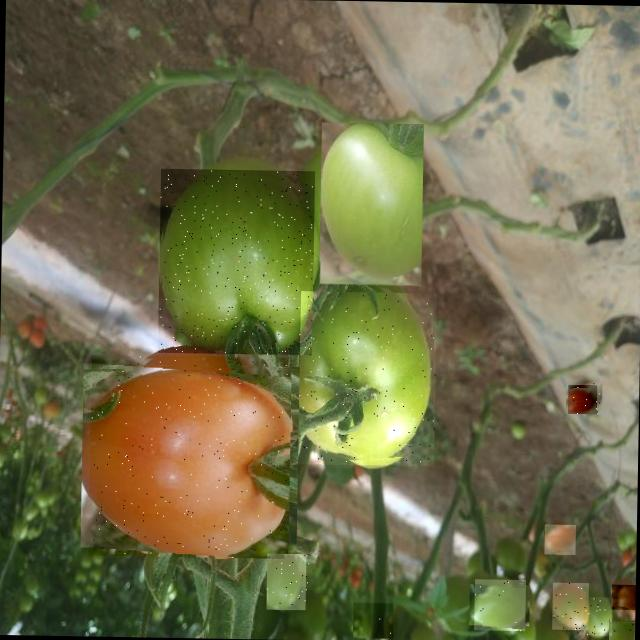Ripe Tomato: (88, 354, 291, 558), (568, 381, 600, 414), (544, 524, 576, 554), (611, 584, 635, 610)
Unripe Tomato: (158, 168, 314, 355), (298, 291, 437, 466), (318, 122, 424, 286), (474, 578, 526, 630), (266, 553, 310, 610), (552, 582, 588, 630), (352, 599, 393, 638), (584, 597, 612, 635), (609, 619, 634, 640)
